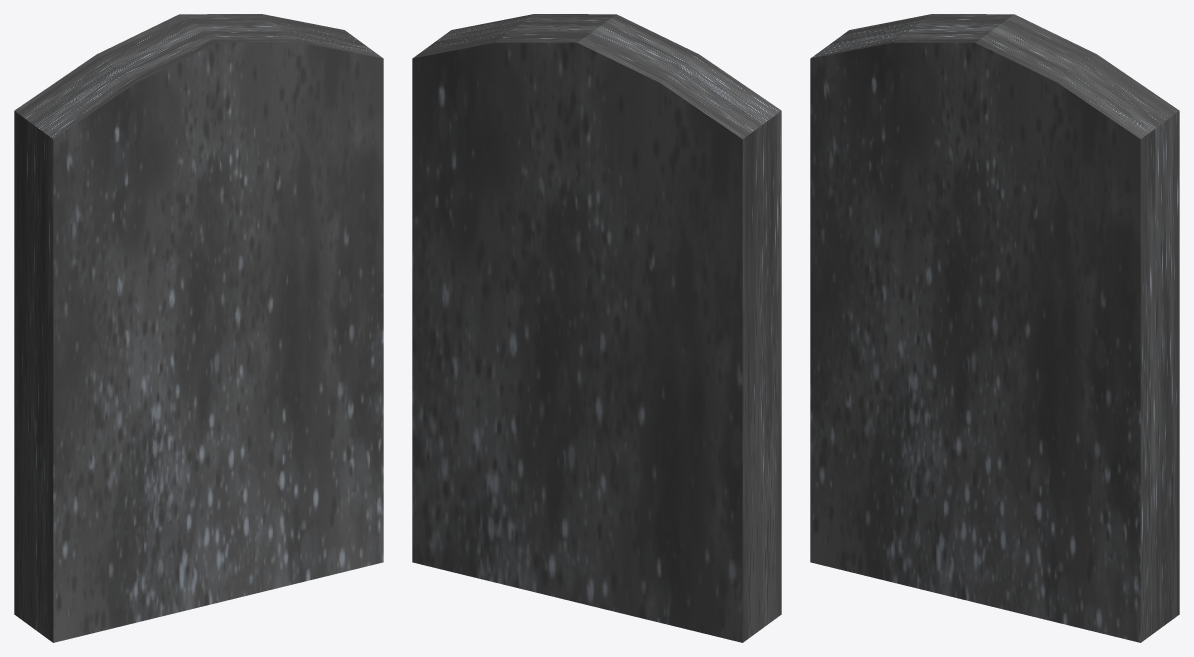
File: SM_RoundTomb_01.fbx
3 views of the same model, side by side, from view 1: azimuth 30°, elevation 25°; view 2: azimuth 150°, elevation 25°; view 3: azimuth 330°, elevation 25° (orthographic).
Parts seen in each view (by area): view 1: Cube.001; view 2: Cube.001; view 3: Cube.001.
Boxes of the visible parts, x1,y1,x2,y2 form: Cube.001: (14,14,383,642); Cube.001: (412,14,781,642); Cube.001: (810,14,1179,642).
Size of the model in its own units: 0.6477 by 1.05 by 0.1326.
